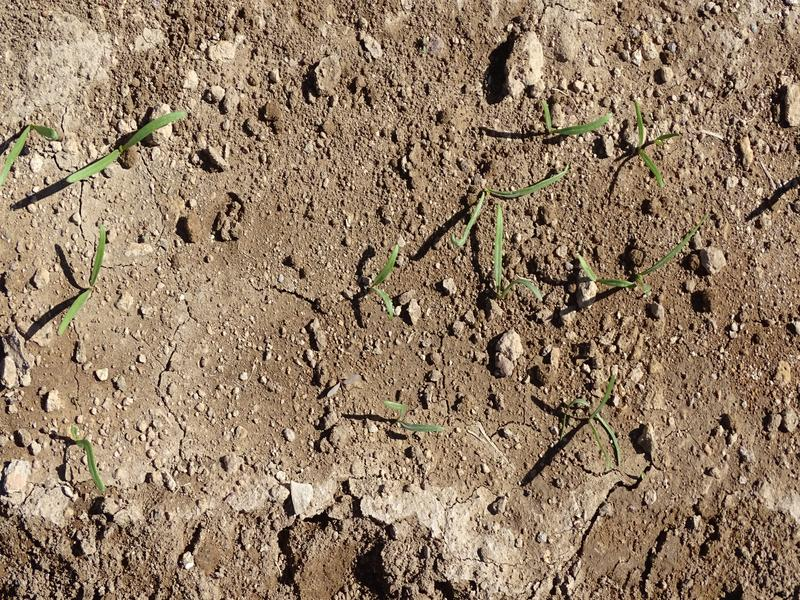Espinaca: (455, 169, 547, 301), (64, 111, 191, 184), (59, 225, 111, 330), (629, 96, 674, 186), (357, 239, 408, 316), (584, 371, 621, 465), (574, 251, 636, 294), (538, 105, 611, 140)
